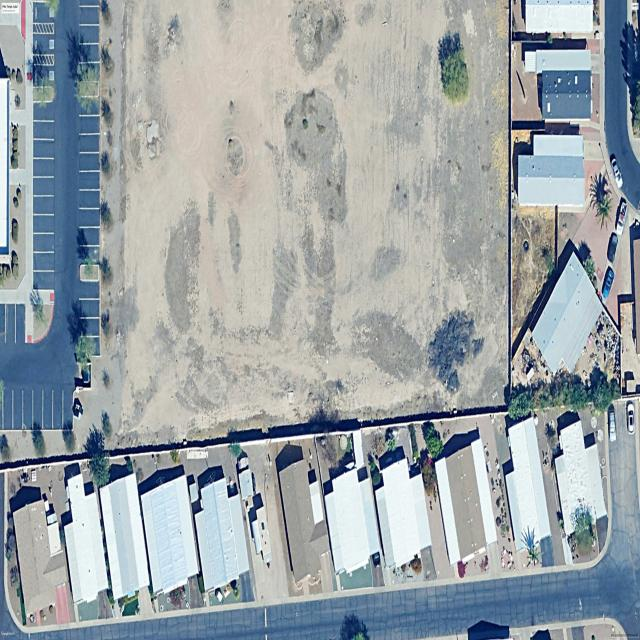Home: (532, 253, 603, 373), (435, 436, 497, 566), (276, 445, 329, 583), (13, 500, 70, 625), (141, 474, 199, 592), (100, 473, 149, 599), (555, 419, 606, 540), (375, 458, 431, 568), (195, 477, 249, 591), (506, 417, 550, 550), (325, 468, 380, 574), (65, 474, 108, 603), (523, 49, 592, 120), (517, 135, 585, 206), (525, 0, 592, 33)
